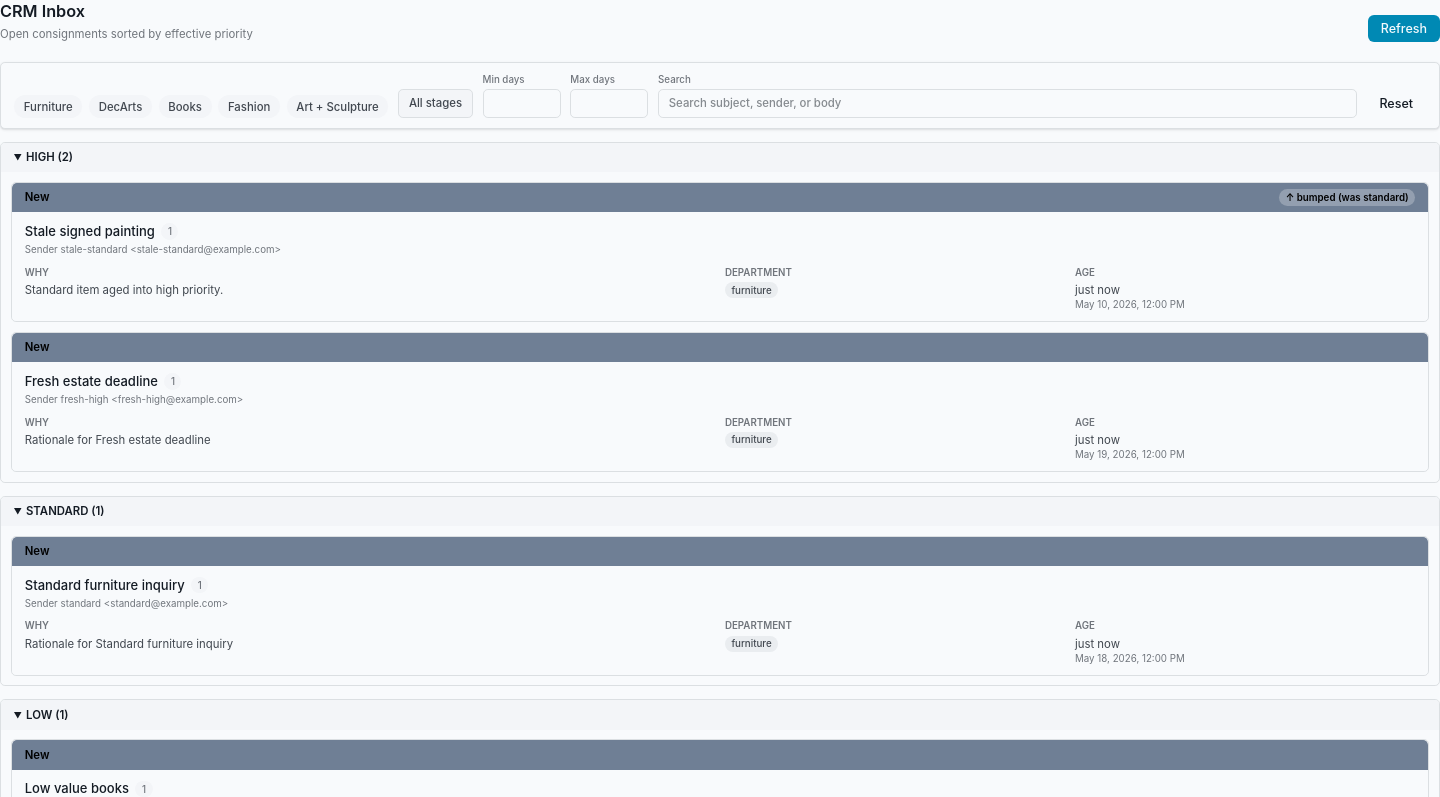
CRMInbox › posts to crm-poll, shows the success toast, and invalidates the triage query
Click the button "Refresh". click: coordinates (1404, 28)
box: x1=1368 y1=14 x2=1439 y2=42
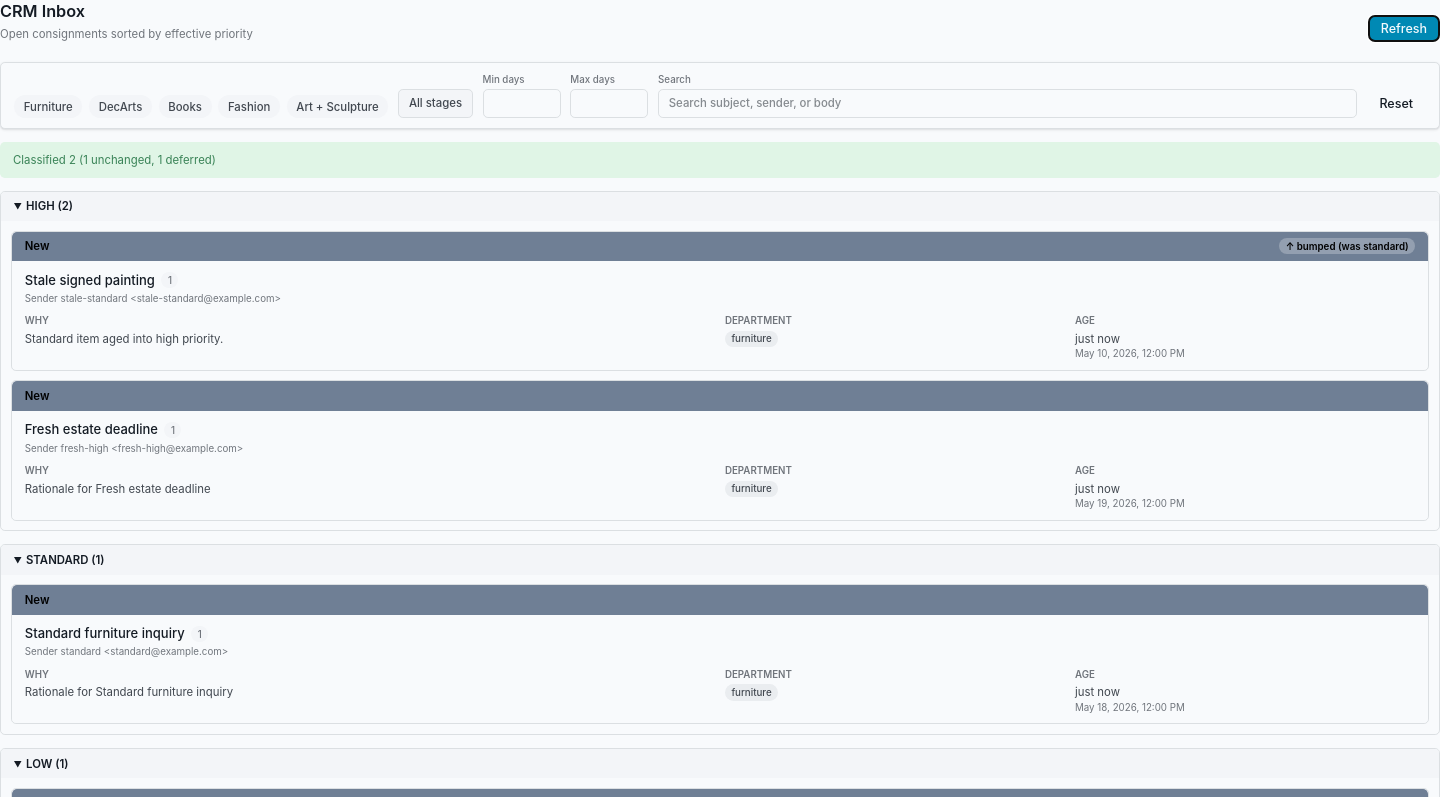
Expected: the message reads "Classified 2 (1 unchanged, 1 deferred)", x1=13 y1=152 x2=216 y2=166
